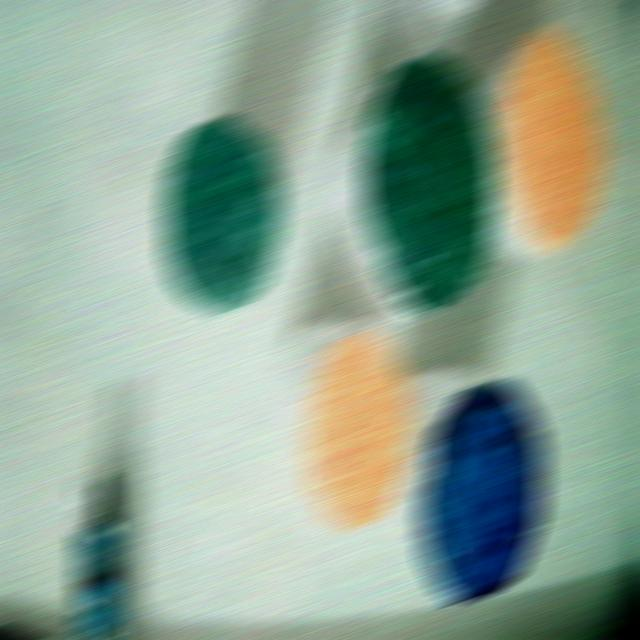blue: (417, 383, 544, 602)
green: (360, 55, 496, 312), (162, 116, 283, 313)
yellow: (498, 26, 605, 251), (300, 330, 413, 529)
